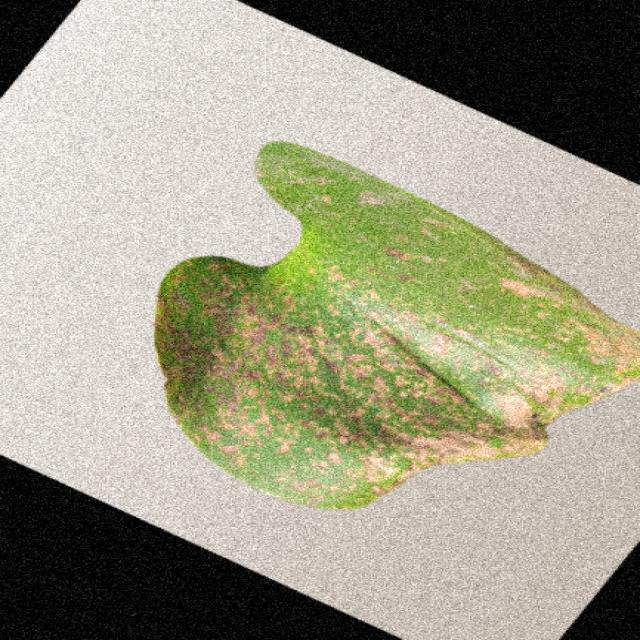daun berpenyakit bercak: (155, 141, 638, 509)
